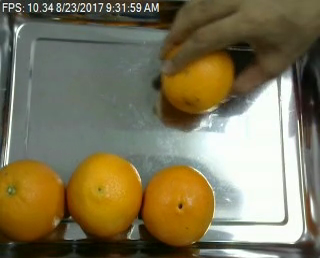Orange: (67, 153, 143, 237), (140, 165, 215, 246), (1, 160, 67, 240)
